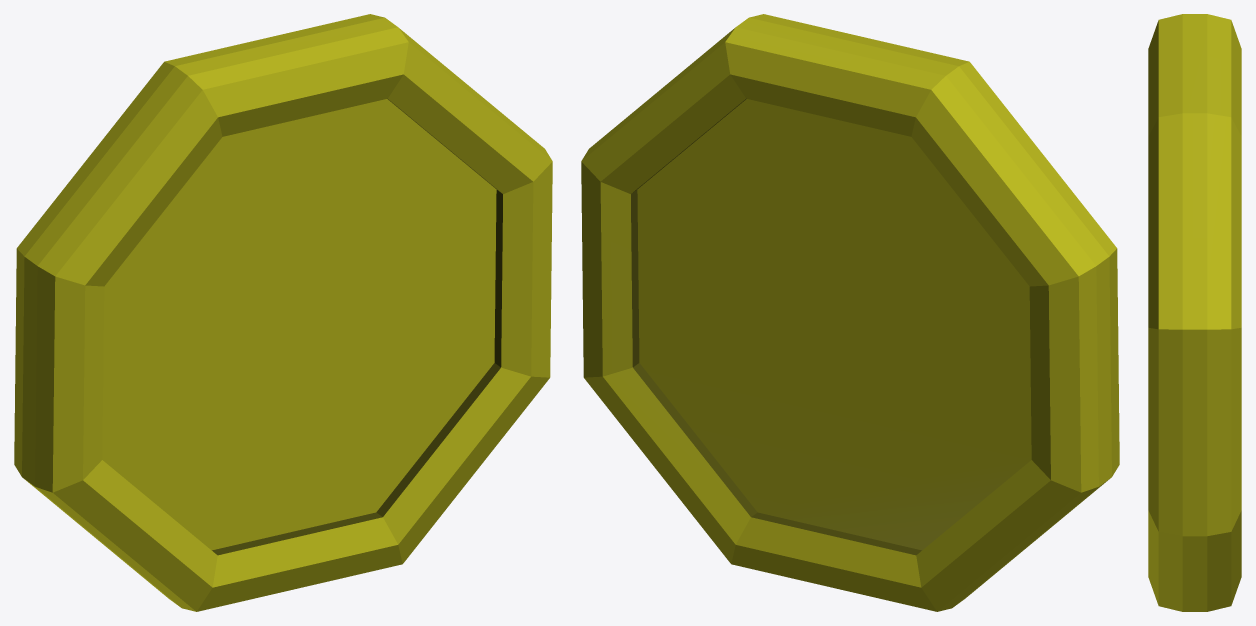
Rendered from AssetsMatheus.fbx_MoedasColetaveis.fbx.
3 views of the same model, side by side, from view 1: azimuth 30°, elevation 25°; view 2: azimuth 150°, elevation 25°; view 3: azimuth 270°, elevation 25° (orthographic). The views are drawn at different scales.
Parts seen in each view (by area): view 1: Moeda8Lados; view 2: Moeda8Lados; view 3: Moeda8Lados.
Boxes of the visible parts, left/top/right/bottom form: Moeda8Lados: left=14, top=14, right=552, bottom=611; Moeda8Lados: left=581, top=14, right=1119, bottom=611; Moeda8Lados: left=1148, top=14, right=1241, bottom=611.
Size of the model in its own units: 33.99 by 33.99 by 5.7.
